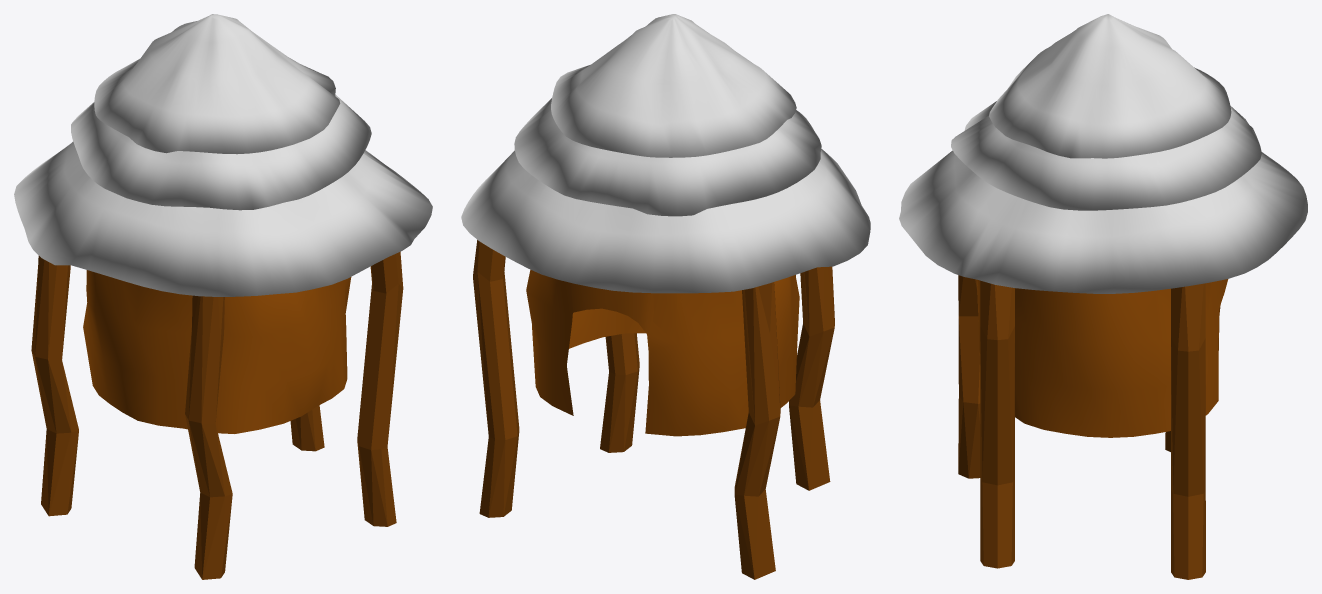
The model's file is hayhut.fbx.
3 renders of one model, left to right at view 1: azimuth 30°, elevation 25°; view 2: azimuth 150°, elevation 25°; view 3: azimuth 270°, elevation 25°, orthographic.
Visible parts, largest first — view 1: Circle.002, Cylinder, Circle, Circle.001, Circle.003, Cylinder.003, Cylinder.006, Cylinder.004, Cylinder.002, Circle.005, Circle.004, Cylinder.001; view 2: Circle.002, Cylinder, Circle, Circle.001, Circle.003, Cylinder.002, Cylinder.001, Cylinder.006, Cylinder.003, Circle.005, Circle.004, Cylinder.004; view 3: Circle.002, Cylinder, Circle, Circle.001, Circle.003, Cylinder.001, Cylinder.004, Cylinder.006, Circle.005, Circle.004, Cylinder.003.
Boxes of the visible parts, <box> form: Circle.002: <box>14,141,432,296</box>; Cylinder: <box>83,270,351,433</box>; Circle: <box>94,14,340,154</box>; Circle.001: <box>71,94,371,210</box>; Circle.003: <box>14,142,430,296</box>; Cylinder.003: <box>185,295,232,579</box>; Cylinder.006: <box>83,272,350,433</box>; Cylinder.004: <box>357,251,403,526</box>; Cylinder.002: <box>31,255,78,516</box>; Circle.005: <box>95,14,339,153</box>; Circle.004: <box>71,96,370,209</box>; Cylinder.001: <box>290,405,324,451</box>; Circle.002: <box>461,149,870,293</box>; Cylinder: <box>526,269,799,436</box>; Circle: <box>551,14,796,157</box>; Circle.001: <box>514,98,821,216</box>; Circle.003: <box>462,150,870,292</box>; Cylinder.002: <box>734,282,780,579</box>; Cylinder.001: <box>473,240,519,517</box>; Cylinder.006: <box>527,270,799,435</box>; Cylinder.003: <box>789,266,834,490</box>; Circle.005: <box>551,14,796,157</box>; Circle.004: <box>515,98,821,216</box>; Cylinder.004: <box>600,333,639,452</box>; Circle.002: <box>899,150,1307,293</box>; Cylinder: <box>977,279,1228,437</box>; Circle: <box>989,15,1231,158</box>; Circle.001: <box>951,101,1261,210</box>; Circle.003: <box>900,151,1307,293</box>; Cylinder.001: <box>1171,283,1205,579</box>; Cylinder.004: <box>980,280,1014,568</box>; Cylinder.006: <box>977,280,1226,437</box>; Circle.005: <box>989,14,1230,158</box>; Circle.004: <box>951,102,1261,210</box>; Cylinder.003: <box>958,275,980,478</box>.
Bounding box in the file's own units: 1307 × 1745 × 1315.
